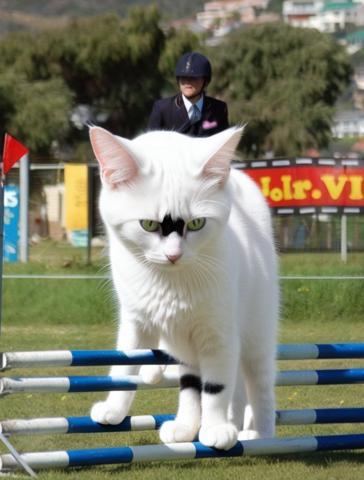cat: (86, 120, 285, 455)
person: (106, 47, 232, 308)
